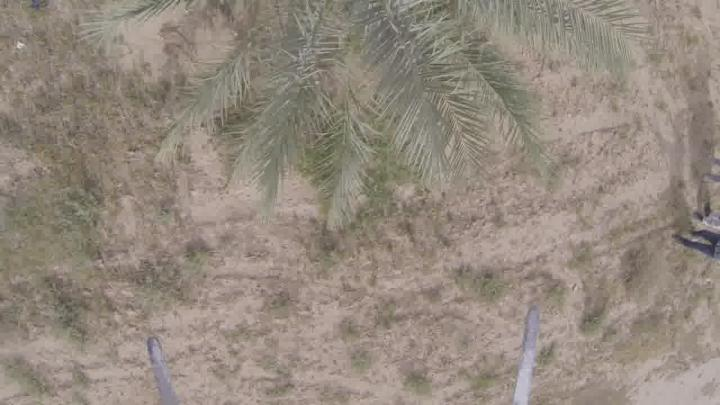Date-Palm-Crown: (239, 0, 512, 138)
